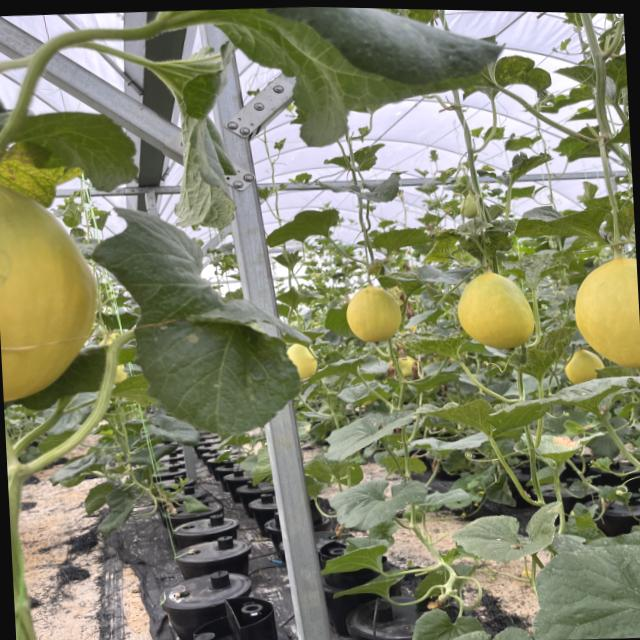CMV: (87, 192, 320, 447), (513, 201, 609, 247), (428, 396, 516, 439), (494, 53, 551, 94), (612, 202, 636, 240)
SLCV: (500, 323, 582, 379), (474, 150, 556, 190), (398, 328, 480, 366), (502, 249, 570, 286)
alternaria leaf blight: (514, 368, 640, 428), (516, 426, 602, 472)
downy mildew: (526, 531, 640, 640)
healthy: (163, 4, 499, 127), (169, 46, 243, 233), (451, 508, 564, 568), (326, 475, 432, 534), (321, 408, 421, 465), (296, 350, 378, 393), (408, 604, 484, 640), (322, 546, 398, 579)
powdery mildew: (425, 235, 457, 270)
